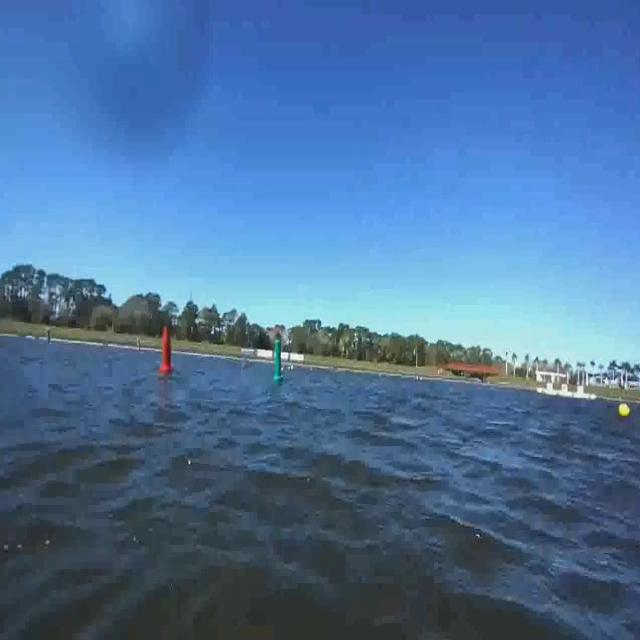green-column-buoy: (264, 329, 285, 388)
red-column-buoy: (153, 316, 176, 382)
